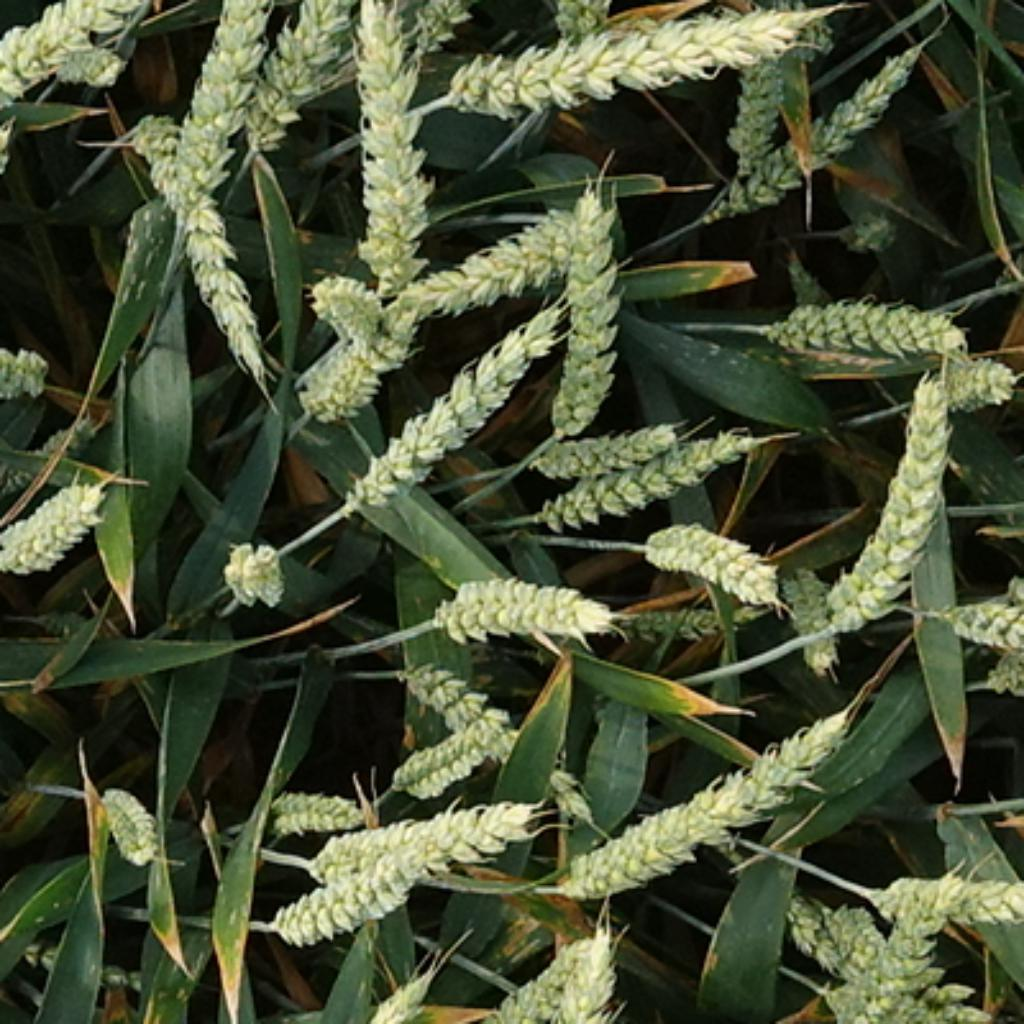0-0: (552, 709, 852, 903), (448, 7, 837, 122), (706, 30, 929, 230), (348, 307, 563, 514), (824, 373, 962, 634), (138, 115, 268, 389), (396, 657, 604, 824), (302, 785, 555, 890), (529, 422, 762, 532), (378, 199, 570, 320), (355, 2, 435, 291), (161, 2, 273, 202), (258, 837, 435, 949), (550, 186, 627, 442), (794, 886, 933, 1024), (752, 279, 975, 363), (243, 2, 353, 158), (422, 555, 619, 642), (0, 2, 140, 99), (291, 317, 419, 422), (634, 506, 780, 596), (0, 463, 112, 570), (381, 714, 517, 793), (724, 2, 791, 161), (870, 857, 1024, 926), (529, 419, 693, 476), (0, 417, 104, 496), (495, 936, 593, 1019), (561, 924, 638, 1024), (89, 773, 166, 862), (775, 890, 844, 985), (778, 555, 842, 657), (307, 263, 389, 335), (924, 343, 1013, 409), (362, 961, 453, 1024), (263, 778, 368, 832), (215, 527, 291, 601), (619, 593, 727, 642), (939, 586, 1024, 647), (43, 40, 143, 89), (824, 896, 888, 972), (0, 332, 61, 401), (909, 982, 1001, 1023), (837, 194, 906, 248), (550, 2, 614, 53), (985, 650, 1024, 701)
